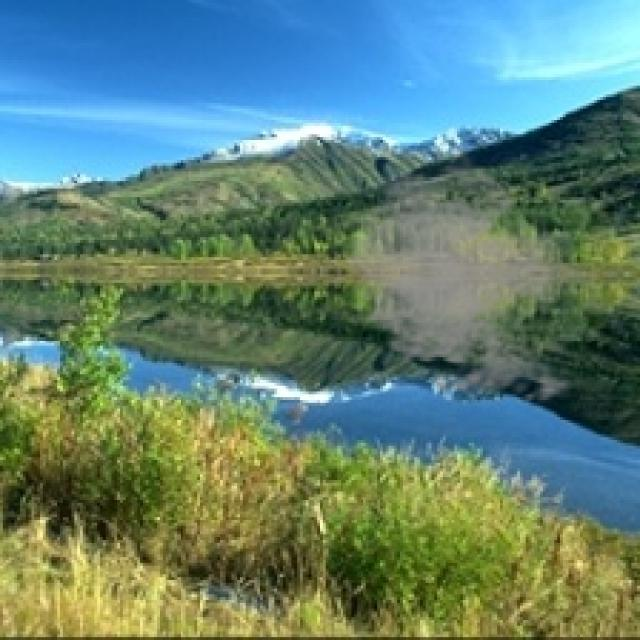Smoke: (334, 146, 609, 408)
